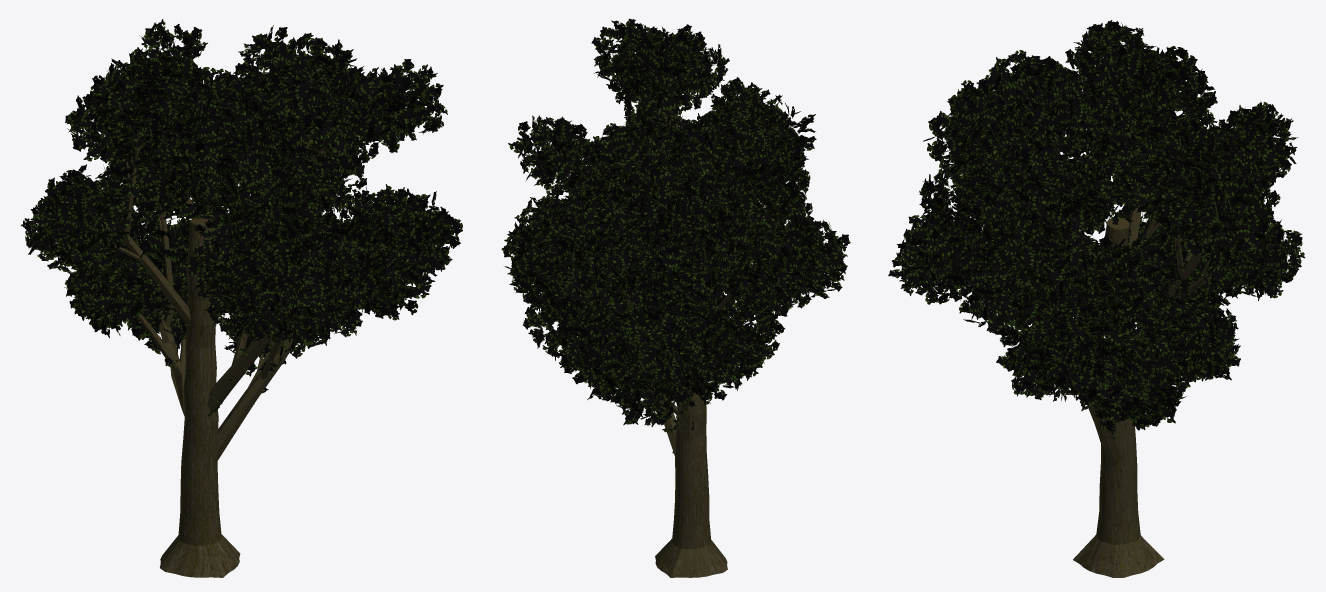
File: broadleaf_giant_v02.fbx
3 views of the same model, side by side, from view 1: azimuth 30°, elevation 25°; view 2: azimuth 150°, elevation 25°; view 3: azimuth 270°, elevation 25° (orthographic). The views are drawn at different scales.
Parts seen in each view (by area): view 1: broadleaf_giant_v02; view 2: broadleaf_giant_v02; view 3: broadleaf_giant_v02.
Part boxes in pixels (x1,y1,x2,y2): broadleaf_giant_v02: (21,19,462,577); broadleaf_giant_v02: (501,18,850,577); broadleaf_giant_v02: (888,20,1305,577).
Size of the model in its own units: 3079 by 2883 by 3910.
2 materials, 2 textured.
